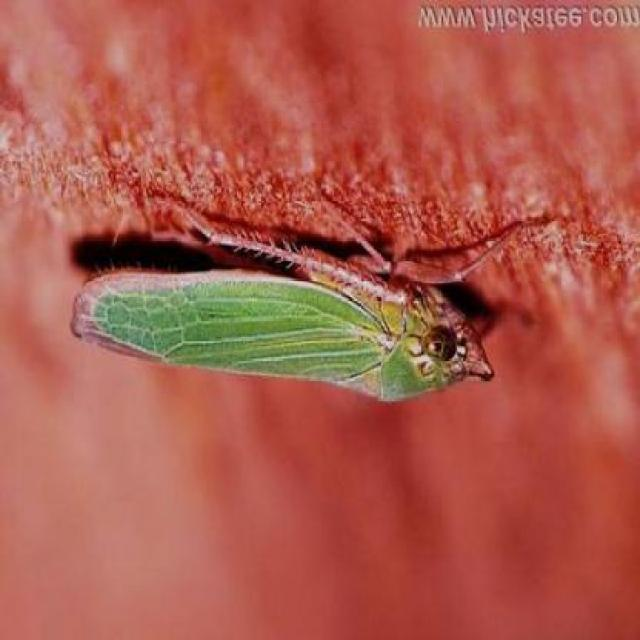green-leafhopper: (67, 216, 488, 407)
